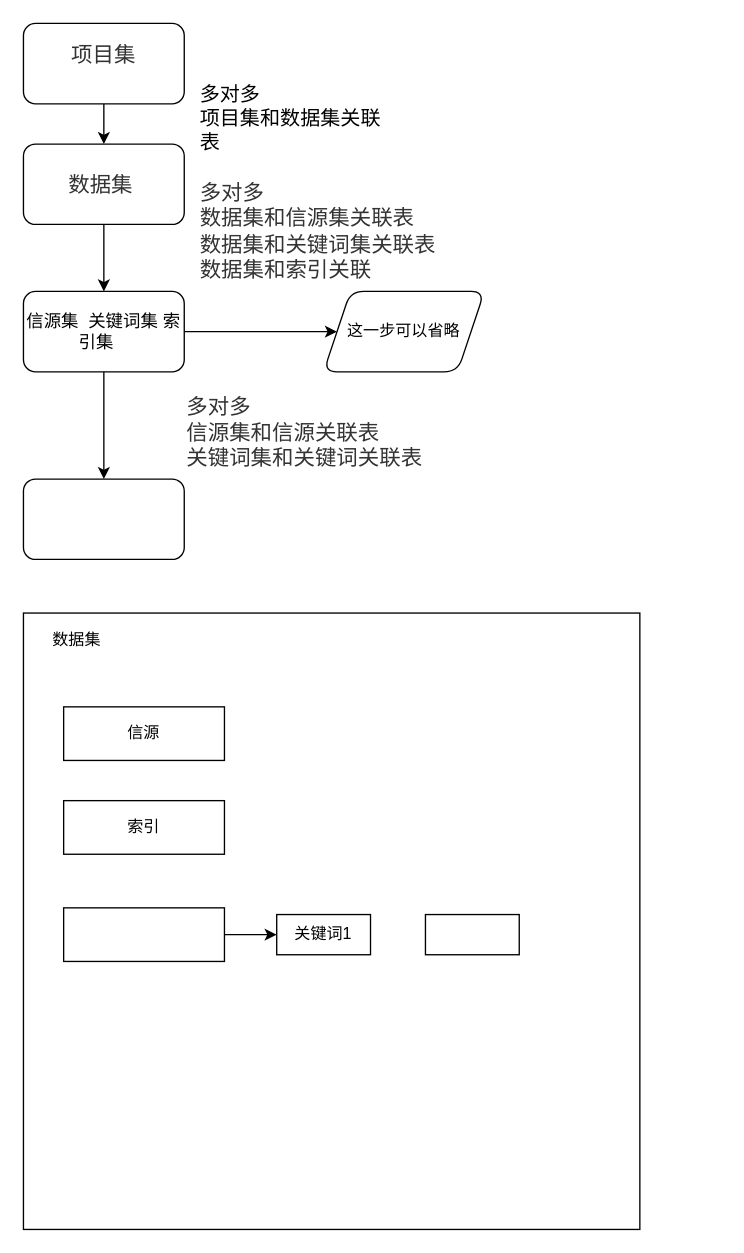
The diagram is 744 pixels wide and 1253 high, and some of its shapes have lost their labels. Each missing label, with the centre of its shape:
信源表 关键词表 索引表: the point at 103,518
关键词2: the point at 471,934
字段1: the point at 143,934
